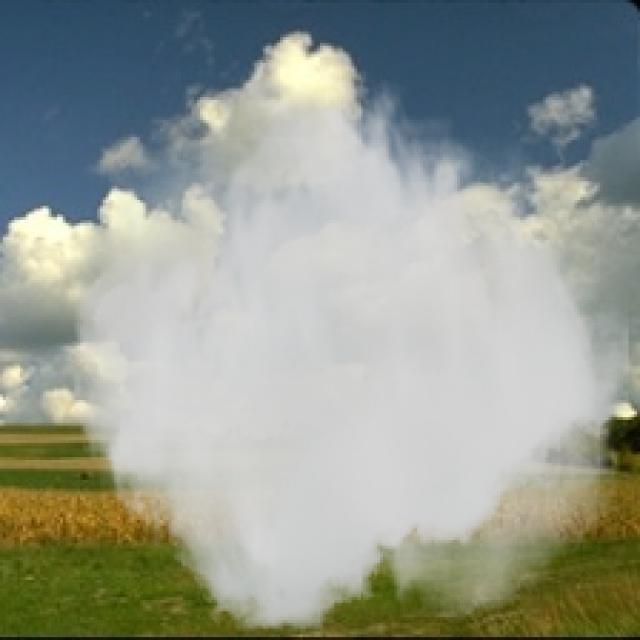Smoke: (66, 66, 628, 632)
